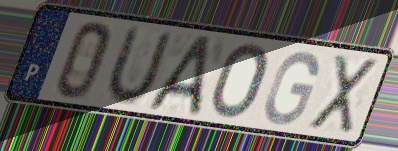0: (54, 19, 113, 102)
A: (143, 34, 216, 117)
G: (261, 49, 321, 128)
O: (208, 41, 270, 121)
U: (100, 23, 176, 108)
X: (306, 52, 381, 136)
